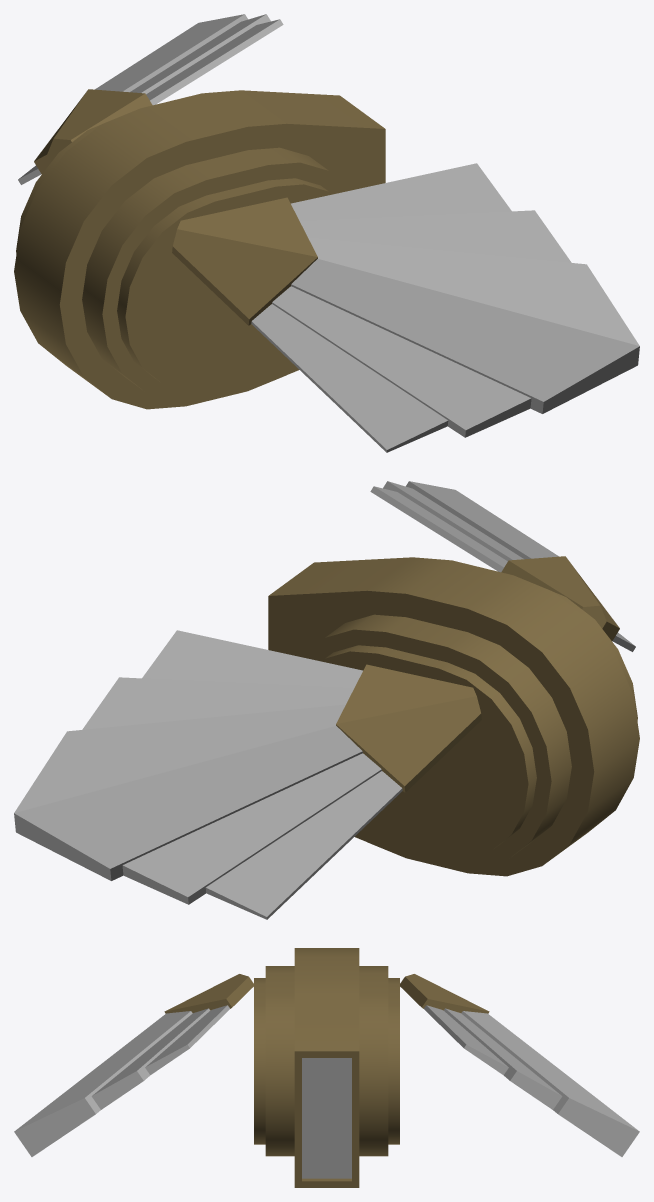
Rendered from CH_Ship_Snitch_Long_Test.fbx.
The picture shows the model from 3 angles, top to bottom: view 1: azimuth 30°, elevation 25°; view 2: azimuth 150°, elevation 25°; view 3: azimuth 270°, elevation 25°; orthographic projection. The views are drawn at different scales.
Visible parts, largest first — view 1: CH_Ship_Snitch_Long_Test; view 2: CH_Ship_Snitch_Long_Test; view 3: CH_Ship_Snitch_Long_Test.
Part boxes in pixels (box(x1,y1,x2,y2)): CH_Ship_Snitch_Long_Test: box(14, 14, 639, 452); CH_Ship_Snitch_Long_Test: box(14, 481, 639, 919); CH_Ship_Snitch_Long_Test: box(14, 948, 639, 1187).
Bounding box in the file's own units: 104 × 66.76 × 202.
